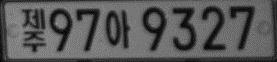2: (201, 5, 225, 50)
3: (172, 7, 197, 51)
7: (229, 5, 255, 51), (76, 8, 101, 51)
9: (49, 7, 73, 52), (142, 6, 166, 51)
아: (105, 9, 131, 48)
제주_V: (21, 8, 47, 52)
